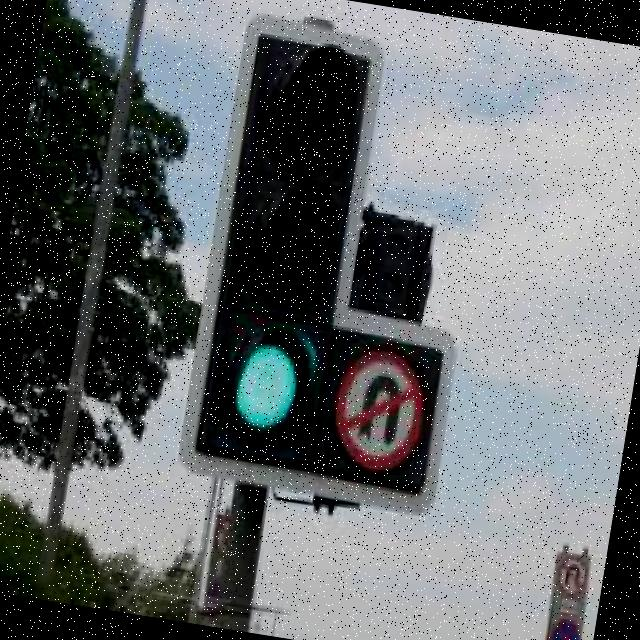Zakaz zatrzymywania sie: (543, 610, 587, 640)
